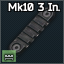Alexander Arms 3 inch rail: (0, 0, 64, 64)
